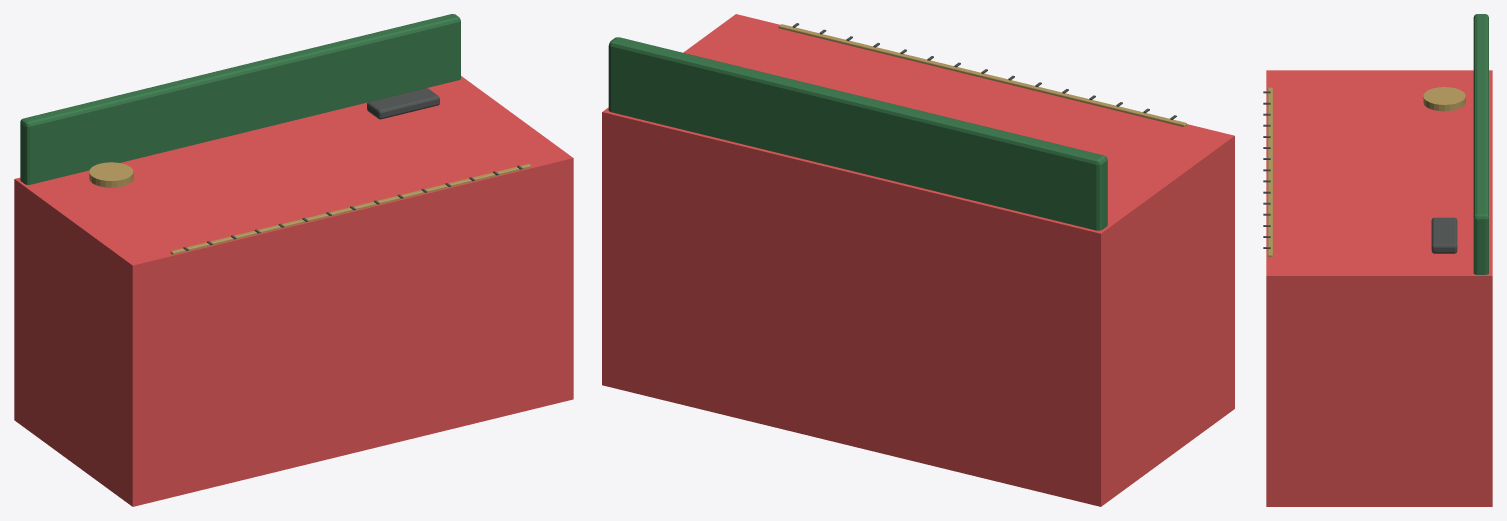
Rendered from delivery_worktable.glb.
3 views of the same model, side by side, from view 1: azimuth 30°, elevation 25°; view 2: azimuth 150°, elevation 25°; view 3: azimuth 270°, elevation 25° (orthographic). The views are drawn at different scales.
Parts seen in each view (by area): view 1: COL_Worktable, Backsplash, BrassMeasureStrip, CutterDock, TapeWell; view 2: COL_Worktable, Backsplash, BrassMeasureStrip; view 3: COL_Worktable, Backsplash, CutterDock, TapeWell, BrassMeasureStrip.
Part boxes in pixels (<box>): COL_Worktable: <box>14,76,573,506</box>; Backsplash: <box>20,14,460,184</box>; BrassMeasureStrip: <box>170,164,531,254</box>; CutterDock: <box>367,88,439,119</box>; TapeWell: <box>89,162,133,187</box>; COL_Worktable: <box>602,14,1234,506</box>; Backsplash: <box>608,37,1107,230</box>; BrassMeasureStrip: <box>778,24,1186,126</box>; COL_Worktable: <box>1266,70,1492,506</box>; Backsplash: <box>1473,14,1488,274</box>; CutterDock: <box>1431,217,1457,253</box>; TapeWell: <box>1423,87,1465,111</box>; BrassMeasureStrip: <box>1268,87,1272,256</box>.
Size of the model in its own units: 1.72 by 1.13 by 0.81.
